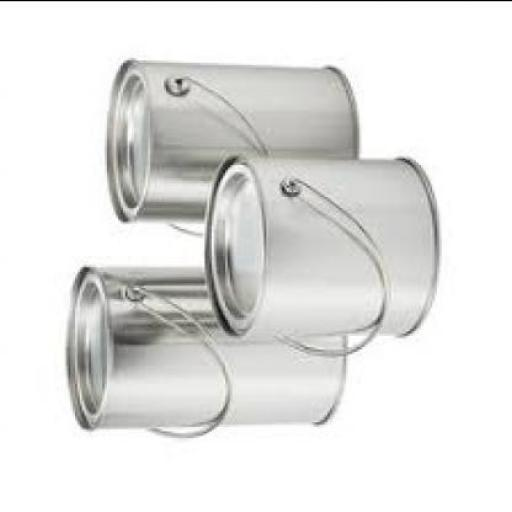metal: (61, 260, 346, 434), (202, 153, 439, 352), (105, 60, 357, 234)
